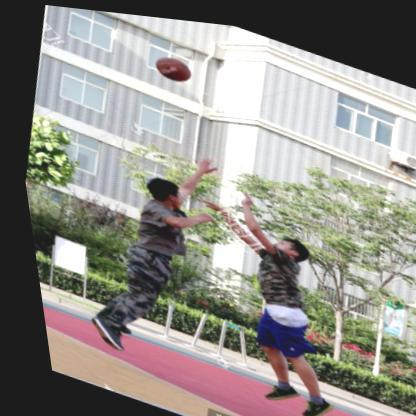basketball: (150, 48, 193, 83)
